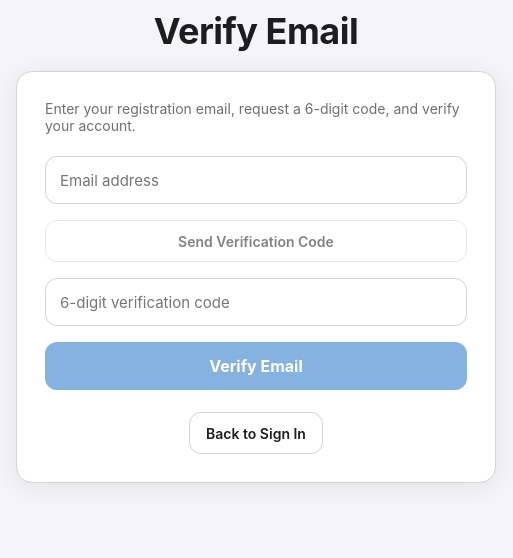
Test case: VerifyEmailPage › verifies email with code
Type "verify@example.com" into the field with placeholder "Email address" at (256, 180), box [45,156,467,204]
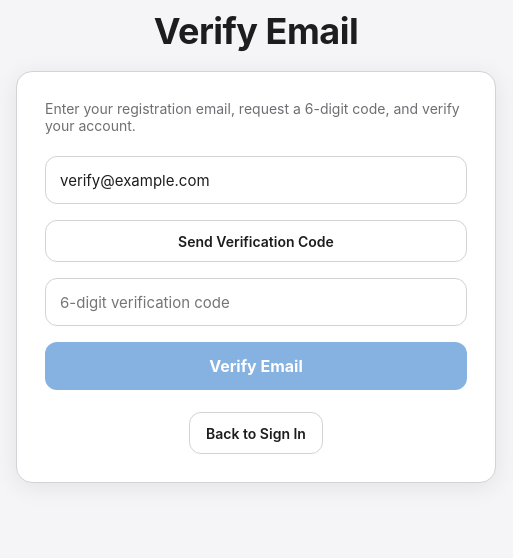
Type "123456" into the field with placeholder "6-digit verification code" at (256, 302), box [45,278,467,326]
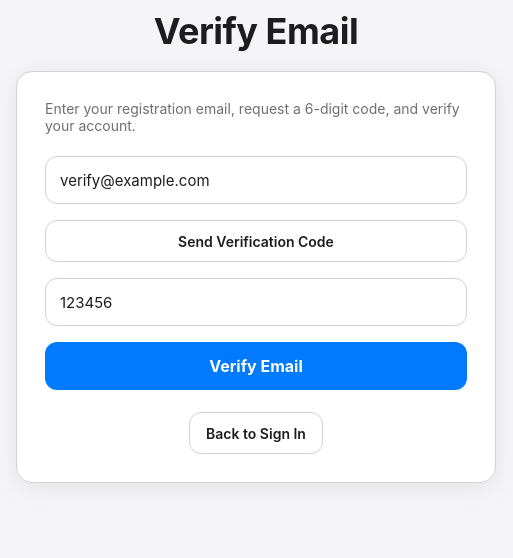
Click the button "Verify Email" at (256, 366), box [45,342,467,390]
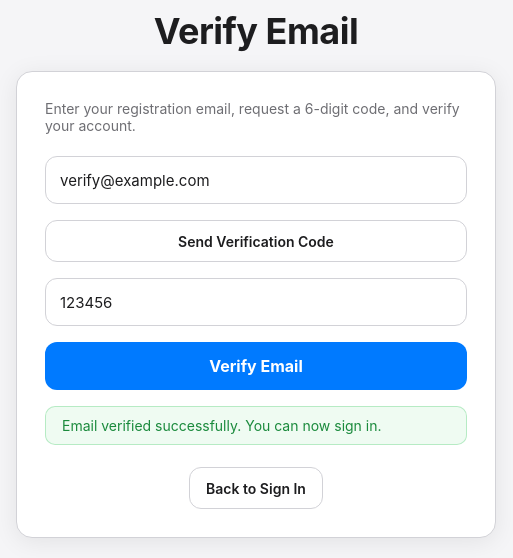
Expected: the text "Email verified successfully. You can now sign in." is shown, [45,406,467,445]
